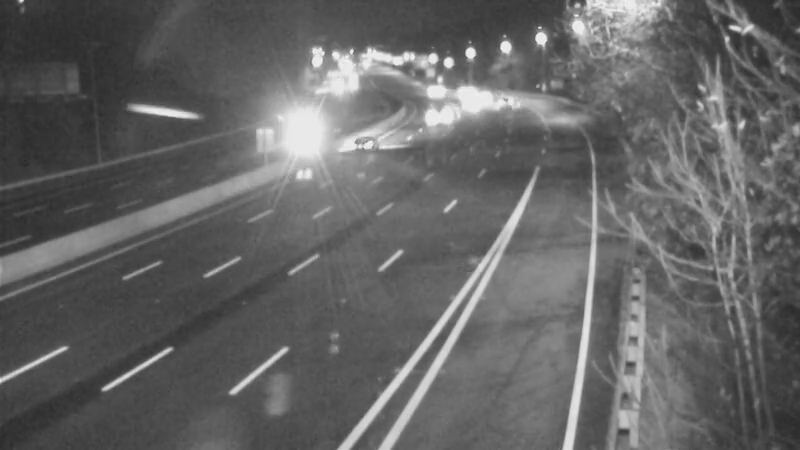vehicle: (402, 65, 452, 115), (433, 68, 483, 118), (436, 77, 486, 127), (476, 75, 526, 125), (415, 88, 465, 138), (334, 116, 384, 166), (282, 104, 332, 154)
